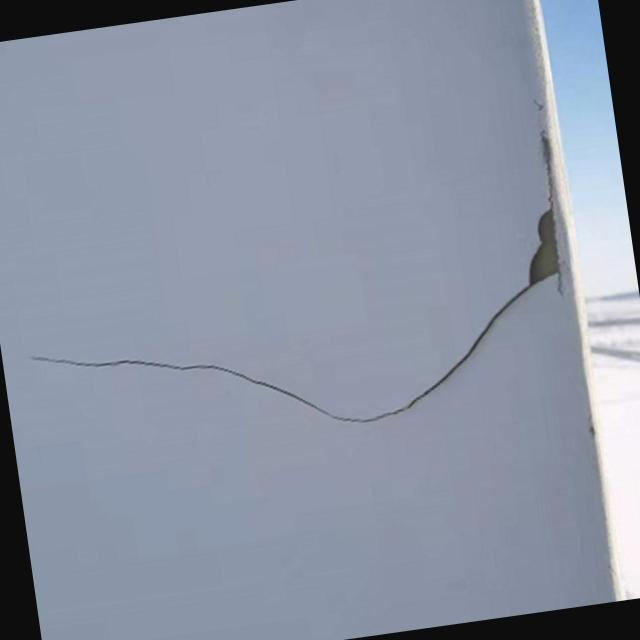crack: (37, 290, 546, 469)
surface_peeling: (524, 204, 561, 287)
